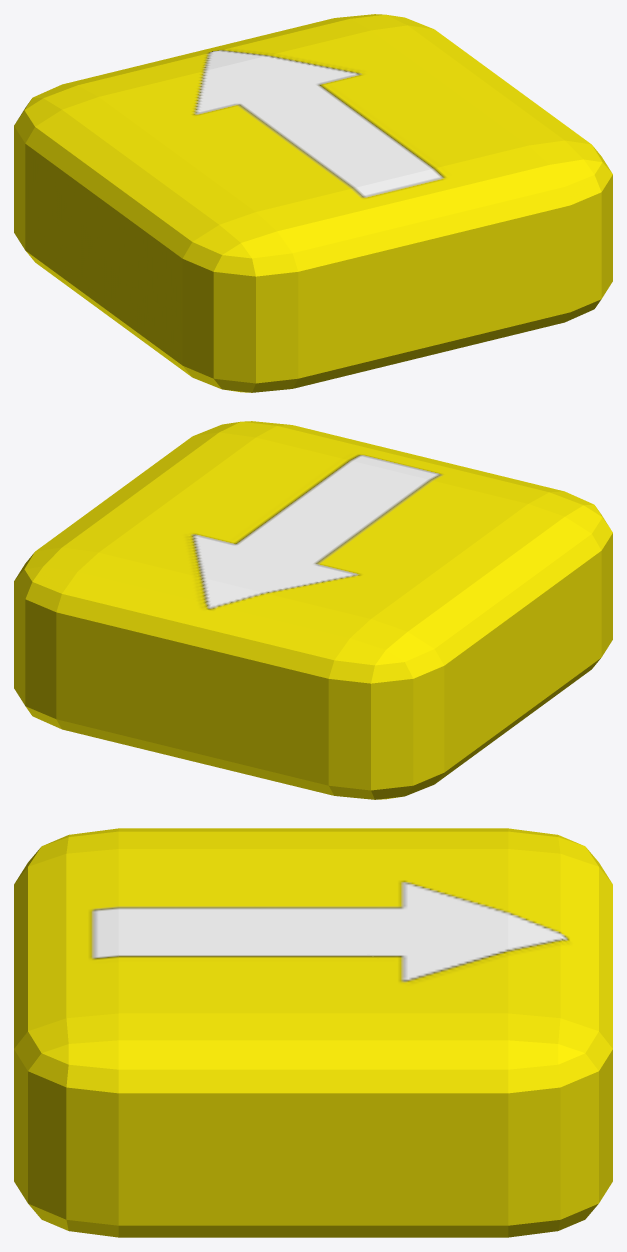
File: SmallCube.fbx
The picture shows the model from 3 angles, top to bottom: view 1: azimuth 30°, elevation 25°; view 2: azimuth 150°, elevation 25°; view 3: azimuth 270°, elevation 25°; orthographic projection. The views are drawn at different scales.
Parts seen in each view (by area): view 1: Cube; view 2: Cube; view 3: Cube.
Boxes of the visible parts, x1,y1,x2,y2 form: Cube: (14, 14, 612, 392); Cube: (14, 421, 612, 799); Cube: (14, 828, 612, 1237).
Size of the model in its own units: 160 by 60 by 160.
Materials: 1 (1 with a texture image).
